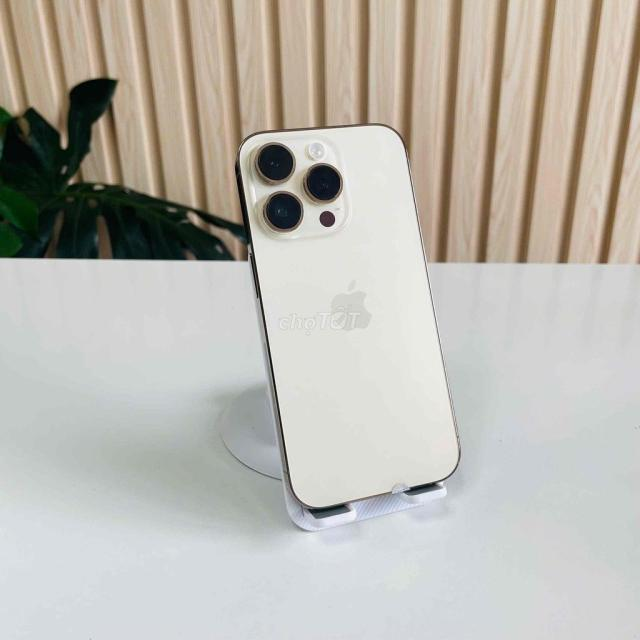gen_14: (231, 117, 465, 517)
